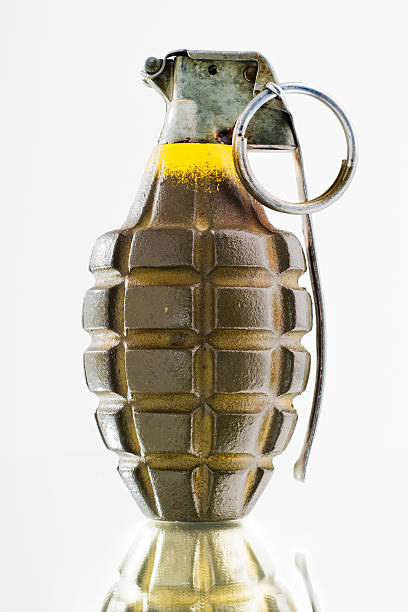e1: (84, 53, 358, 518)
